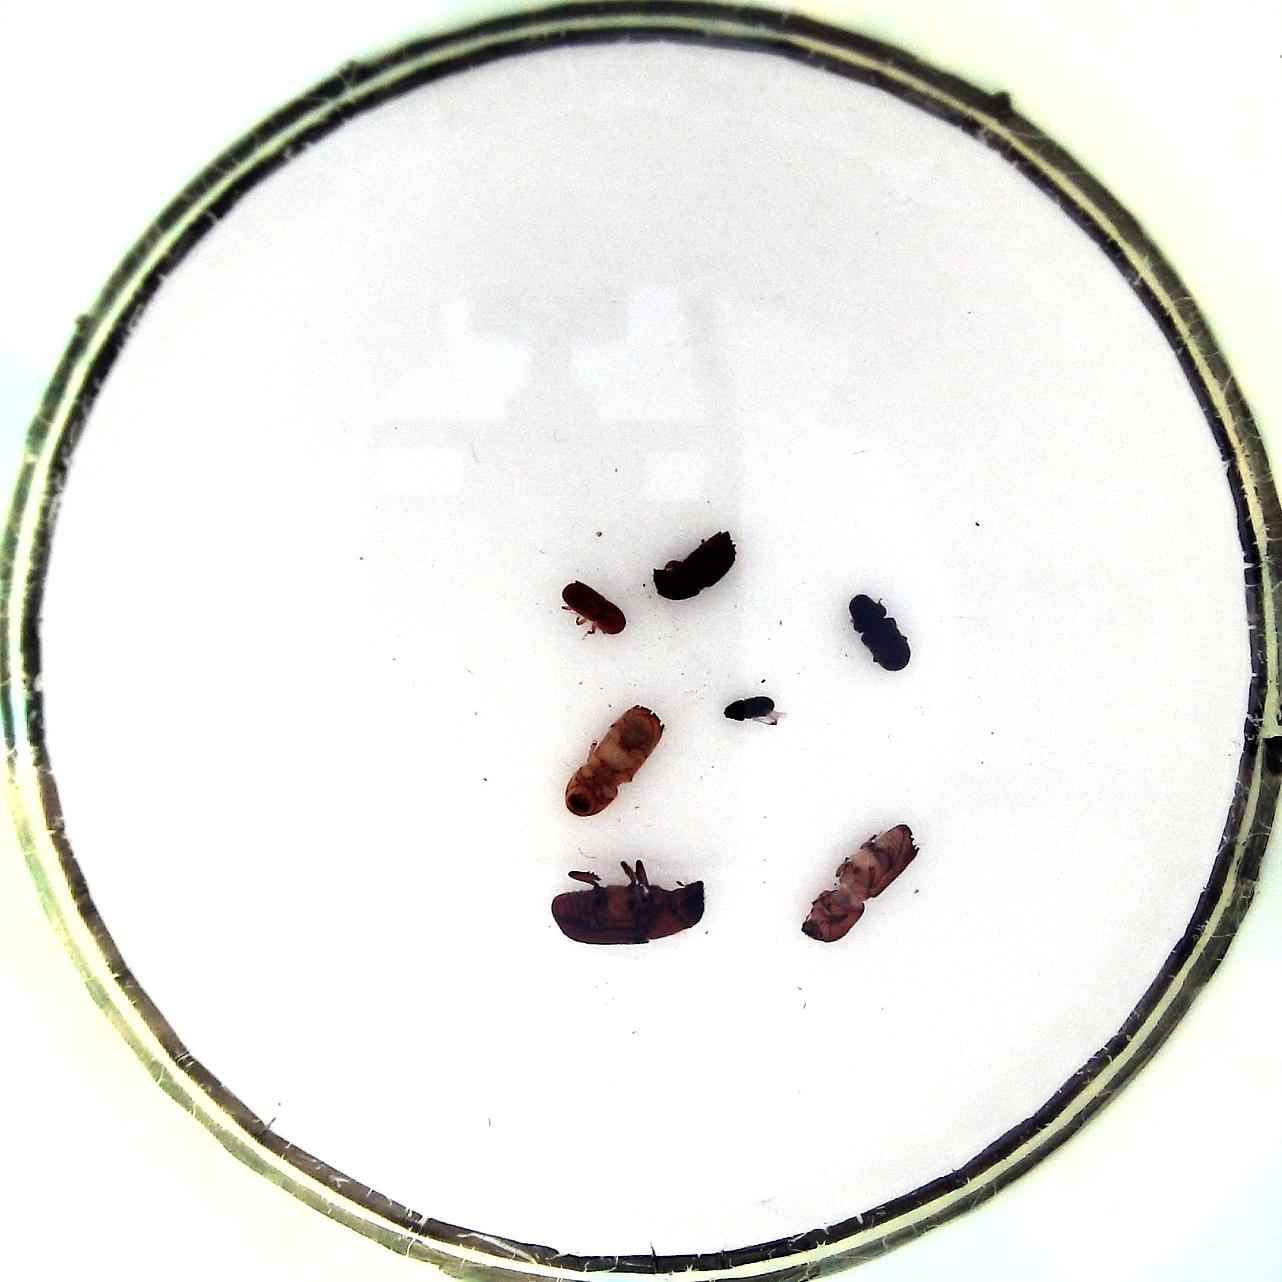Boerner: (795, 819, 923, 949), (559, 701, 664, 819)
Leconte: (544, 857, 710, 949)
Linnaeus: (648, 527, 738, 601)
acuminatus: (559, 575, 630, 639)
armandi: (843, 591, 913, 673)
coleoptera: (720, 693, 789, 729)
